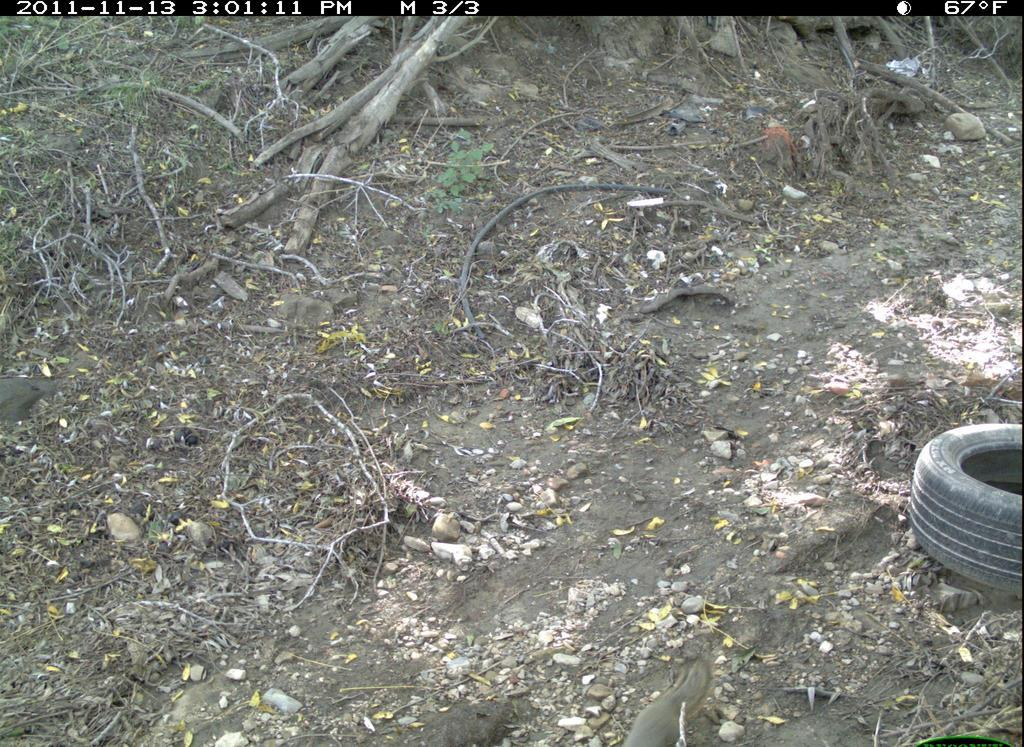squirrel: (603, 641, 734, 745)
